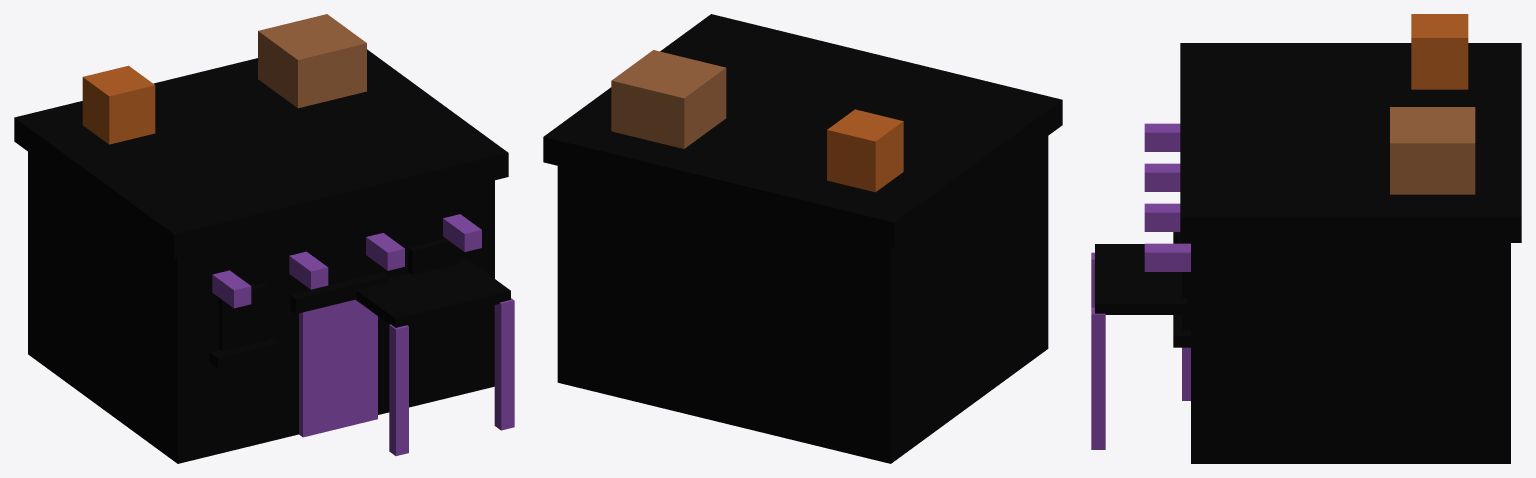
File: AdobeHouse.obj
3 views of the same model, side by side, from view 1: azimuth 30°, elevation 25°; view 2: azimuth 150°, elevation 25°; view 3: azimuth 270°, elevation 25° (orthographic). The views are drawn at different scales.
Parts seen in each view (by area): view 1: AdobeHouse; view 2: AdobeHouse; view 3: AdobeHouse.
Boxes of the visible parts, x1,y1,x2,y2 form: AdobeHouse: (14,14,514,463); AdobeHouse: (543,14,1062,463); AdobeHouse: (1091,14,1521,463).
Size of the model in its own units: 11.6 by 9.4 by 12.1.
